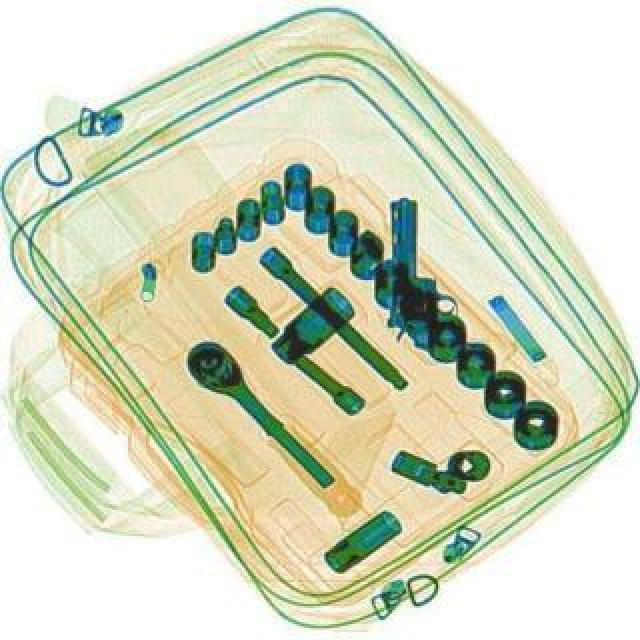gun: (386, 196, 462, 354)
